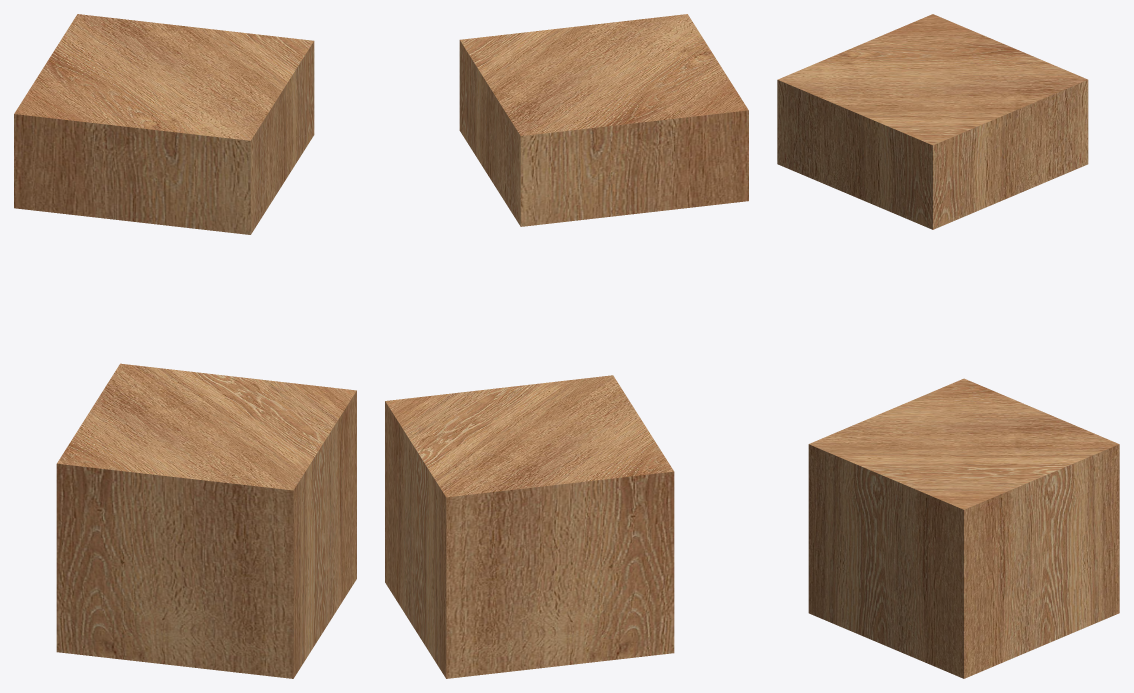
File: 24066_deepcad.glb
3 views of the same model, side by side, from view 1: azimuth 30°, elevation 25°; view 2: azimuth 150°, elevation 25°; view 3: azimuth 270°, elevation 25° (orthographic). The views are drawn at different scales.
Parts seen in each view (by area): view 1: test_cmd_24066_pred; view 2: test_cmd_24066_pred; view 3: test_cmd_24066_pred.
Part boxes in pixels (bbox=[...]): test_cmd_24066_pred: bbox=[14, 14, 356, 678]; test_cmd_24066_pred: bbox=[385, 14, 748, 678]; test_cmd_24066_pred: bbox=[777, 14, 1119, 678].
Size of the model in its own units: 0.6667 by 1 by 0.6111.
1 material, 1 textured.
